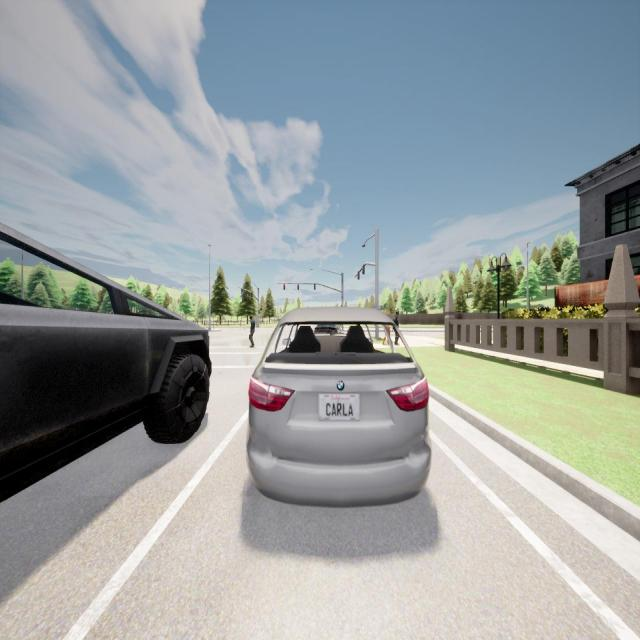Pedestrian: (393, 310, 403, 346), (383, 310, 391, 346), (248, 316, 255, 348)
Vehicle: (1, 222, 213, 502), (247, 311, 432, 507)
traffic_light: (361, 266, 365, 274), (356, 271, 359, 280), (283, 283, 285, 290), (297, 283, 299, 290), (314, 283, 315, 290)
